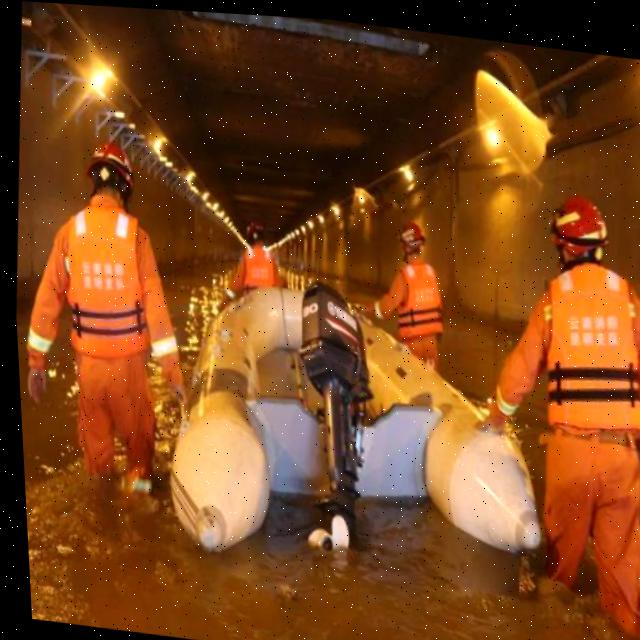rescuer: (443, 170, 640, 640), (6, 107, 217, 518), (350, 193, 462, 404), (205, 192, 304, 341)
